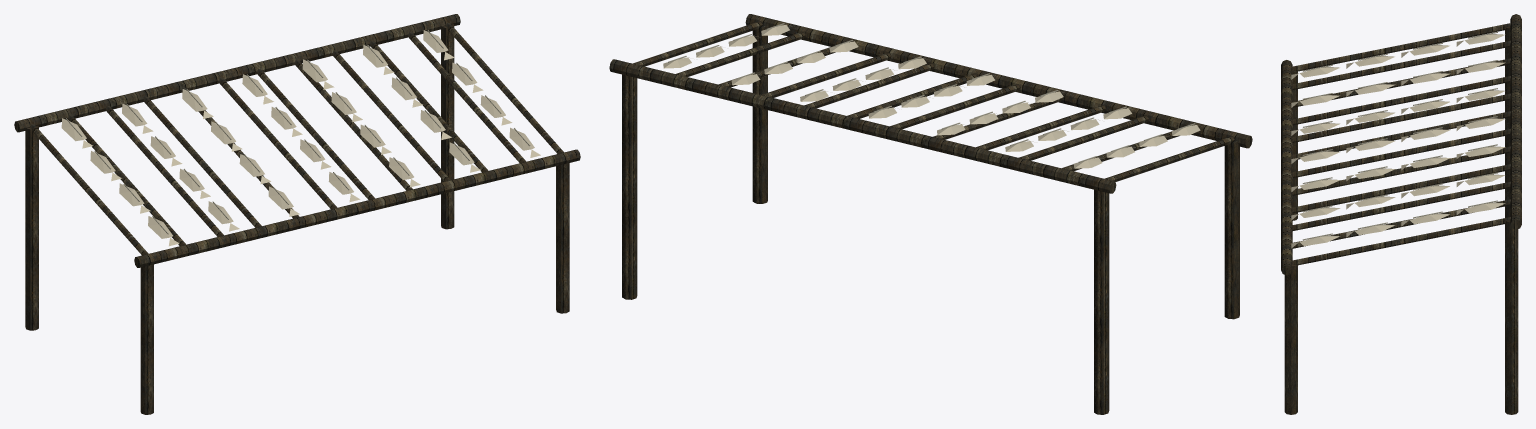
Rendered from fish_drying_rack_reduced.glb.
The picture shows the model from 3 angles, left to right: view 1: azimuth 30°, elevation 25°; view 2: azimuth 150°, elevation 25°; view 3: azimuth 270°, elevation 25°; orthographic projection. The views are drawn at different scales.
Visible parts, largest first — view 1: BambooFrameAndSlats, RowsOfSplitFish, FishSpines; view 2: BambooFrameAndSlats, RowsOfSplitFish, FishSpines; view 3: BambooFrameAndSlats, RowsOfSplitFish, FishSpines.
Boxes of the visible parts, x1,y1,x2,y2 form: BambooFrameAndSlats: [14, 14, 580, 414]; RowsOfSplitFish: [61, 30, 540, 246]; FishSpines: [66, 30, 530, 234]; BambooFrameAndSlats: [609, 14, 1252, 414]; RowsOfSplitFish: [663, 24, 1200, 168]; FishSpines: [668, 23, 1195, 162]; BambooFrameAndSlats: [1281, 14, 1521, 414]; RowsOfSplitFish: [1291, 34, 1505, 248]; FishSpines: [1302, 32, 1497, 240].
Bounding box in the file's own units: 2.12 × 0.9575 × 1.05.
3 materials, 1 textured.
